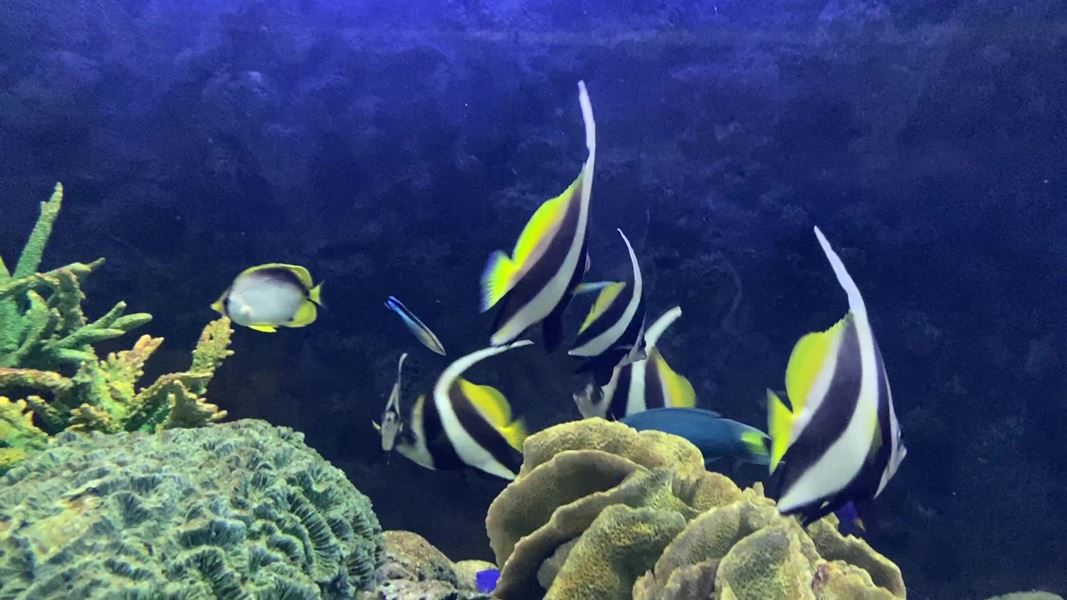Bluesteak cleaner wrasse: (376, 283, 452, 367)
